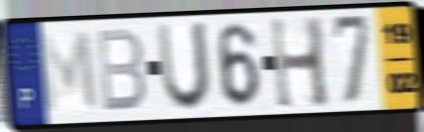6: (214, 19, 264, 111)
7: (330, 13, 373, 109)
B: (94, 26, 148, 115)
H: (268, 15, 334, 113)
M: (37, 28, 102, 117)
U: (155, 19, 213, 115)
